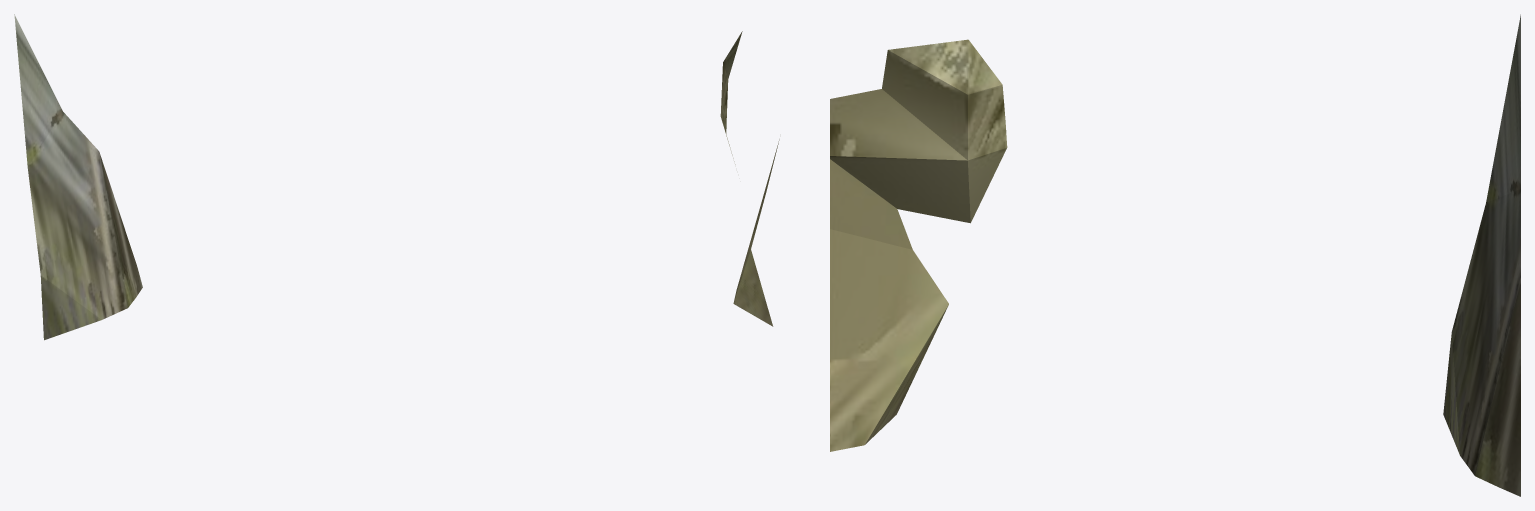
The picture shows the model from 3 angles, left to right: view 1: azimuth 30°, elevation 25°; view 2: azimuth 150°, elevation 25°; view 3: azimuth 270°, elevation 25°; orthographic projection. The views are drawn at different scales.
Size of the model in its own units: 0.8326 by 1.89 by 2.95.
Materials: 1 (1 with a texture image).
